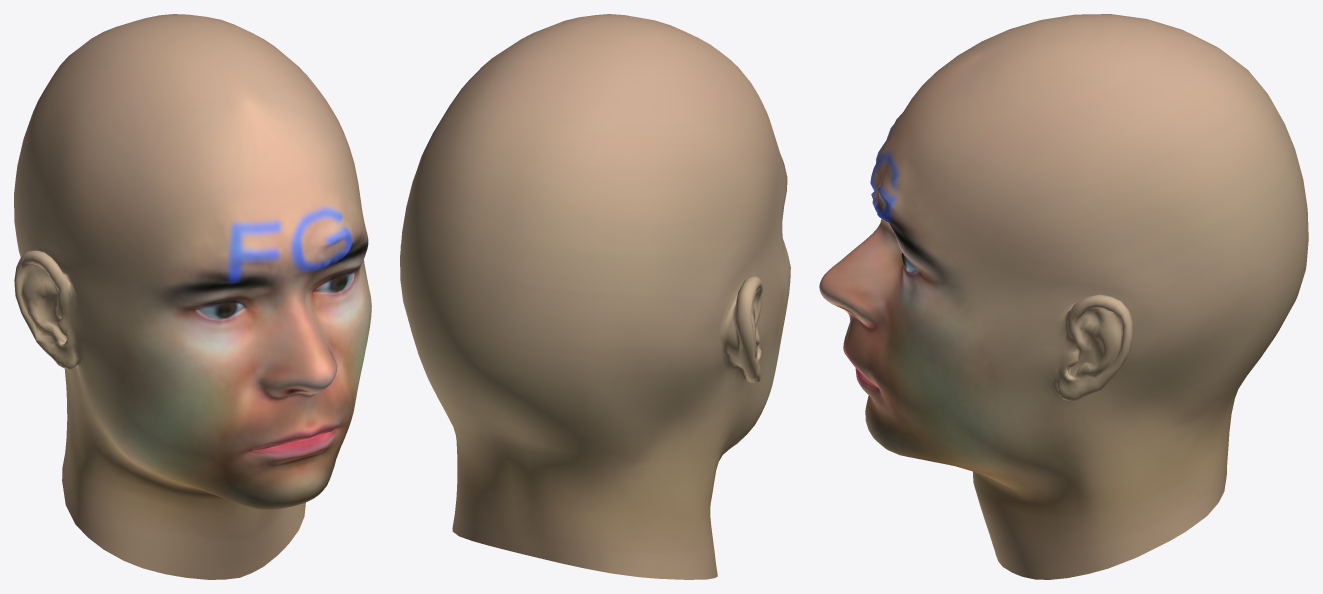
Rendered from random_anyrace_anysex_13.obj.
3 views of the same model, side by side, from view 1: azimuth 30°, elevation 25°; view 2: azimuth 150°, elevation 25°; view 3: azimuth 270°, elevation 25° (orthographic). The views are drawn at different scales.
Parts seen in each view (by area): view 1: HeadHires; view 2: HeadHires; view 3: HeadHires.
Part boxes in pixels (x1,y1,x2,y2): HeadHires: [14, 14, 371, 579]; HeadHires: [400, 14, 790, 579]; HeadHires: [819, 14, 1308, 579].
Bounding box in the file's own units: 188 × 283 × 238.
Materials: 3 (3 with a texture image).
